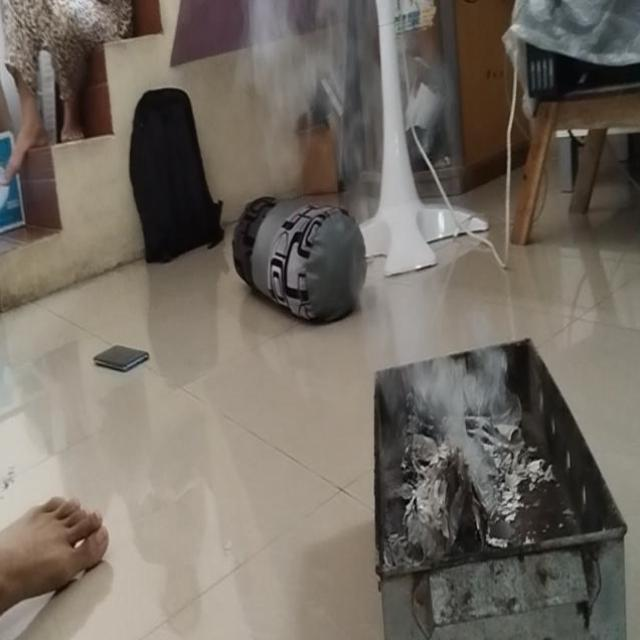fire: (238, 0, 380, 137), (398, 279, 512, 444)
